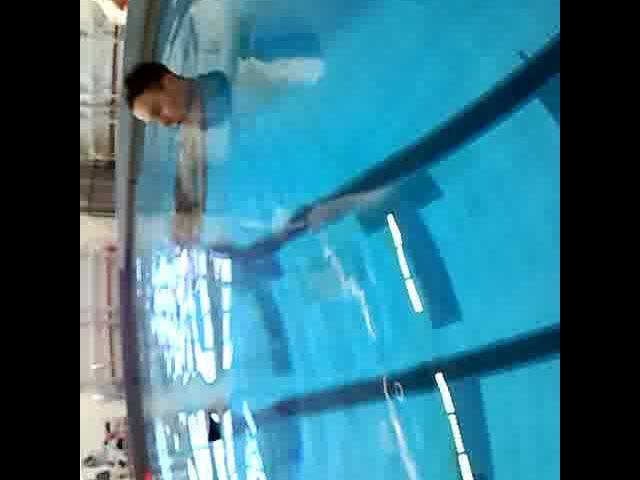CamMount: (200, 404, 224, 443)
